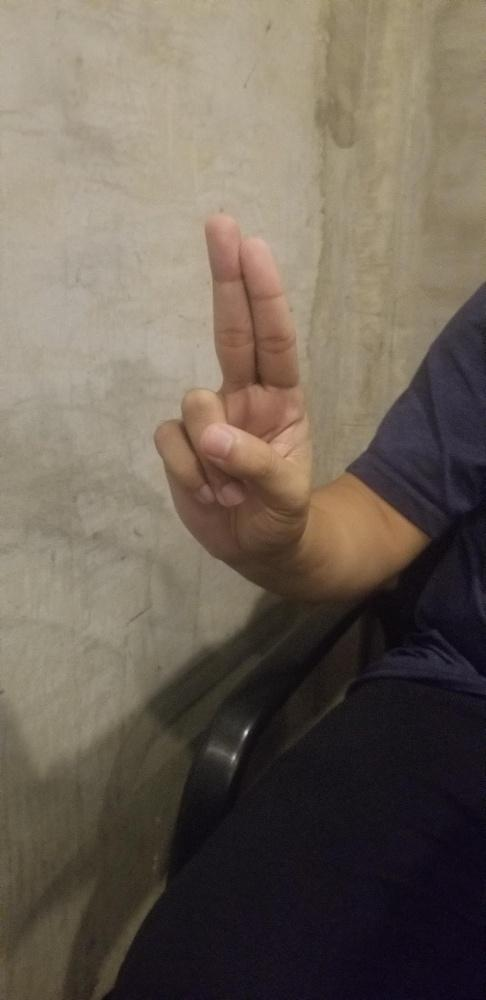u: (151, 212, 313, 561)
